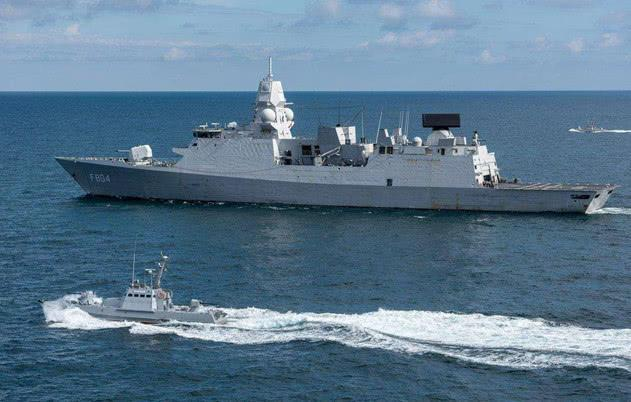warship: (52, 59, 615, 219), (47, 243, 219, 325)
